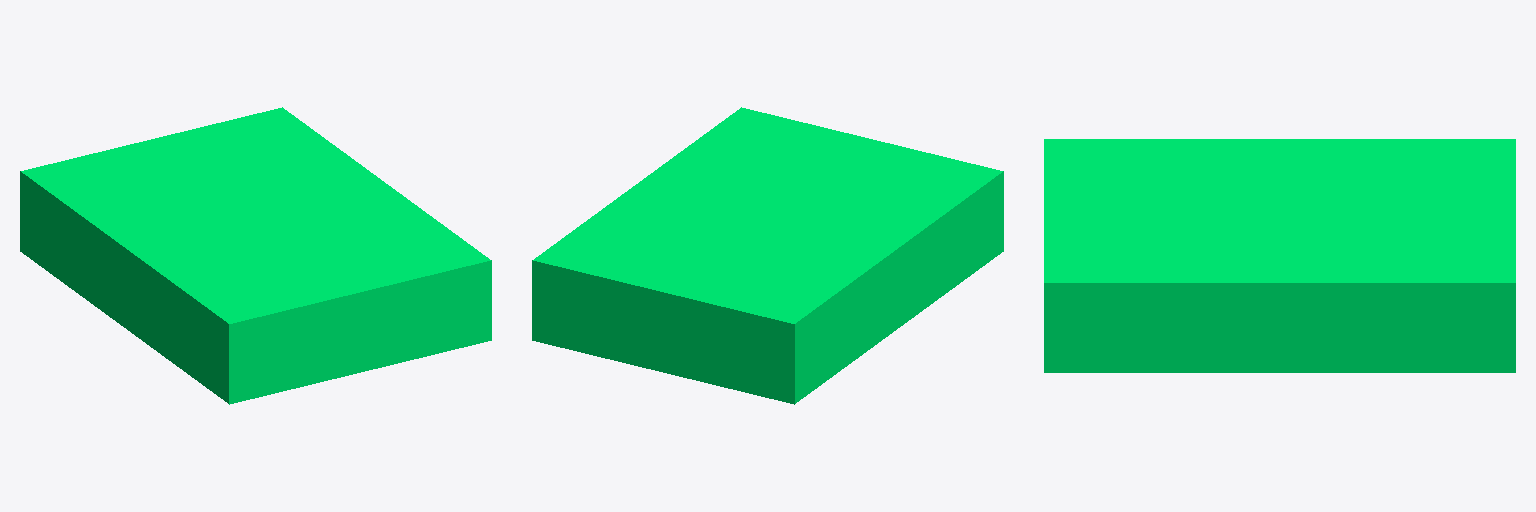
The robot description file, URDF, robot "myfirst":
<?xml version="1.0"?>
 <robot name="myfirst">
   <material name="red">
     <color rgba="1 0.498 0.3137 1"/>
   </material>
   <material name="green">
     <color rgba="0 1 0.498 1"/>
   </material>
   <link name="right_leg">
     <visual>
       <geometry>
         <box size="0.14 0.19343700408935547 0.041"/>
       </geometry>
       <material name="green"/>
     </visual>
     <collision>
       <geometry>
         <box size="0.16 0.21343700408935547 0.061"/>
       </geometry>
     </collision>
     <inertial>
       <mass value="1"/>
       <inertia ixx="1.0" ixy="0.0" ixz="0.0" iyy="1.0" iyz="0.0" izz="1.0"/>
     </inertial>
   </link>
 </robot>

--- Render facts (derived) ---
The picture shows the robot from 3 angles, left to right: view 1: azimuth 30°, elevation 25°; view 2: azimuth 150°, elevation 25°; view 3: azimuth 270°, elevation 25°; orthographic projection.
Robot: myfirst — 1 links, 0 joints (none); root link right_leg; default pose: all joints at 0.
Links seen in each view (by area): view 1: right_leg; view 2: right_leg; view 3: right_leg.
Link boxes in pixels (left/top/right/bottom): right_leg: left=20, top=107, right=491, bottom=404; right_leg: left=532, top=107, right=1003, bottom=404; right_leg: left=1044, top=139, right=1515, bottom=372.
Size in the robot's own frame: 0.14 by 0.1934 by 0.041 metres.
Geometry: primitives only (box / cylinder / sphere), no mesh files.